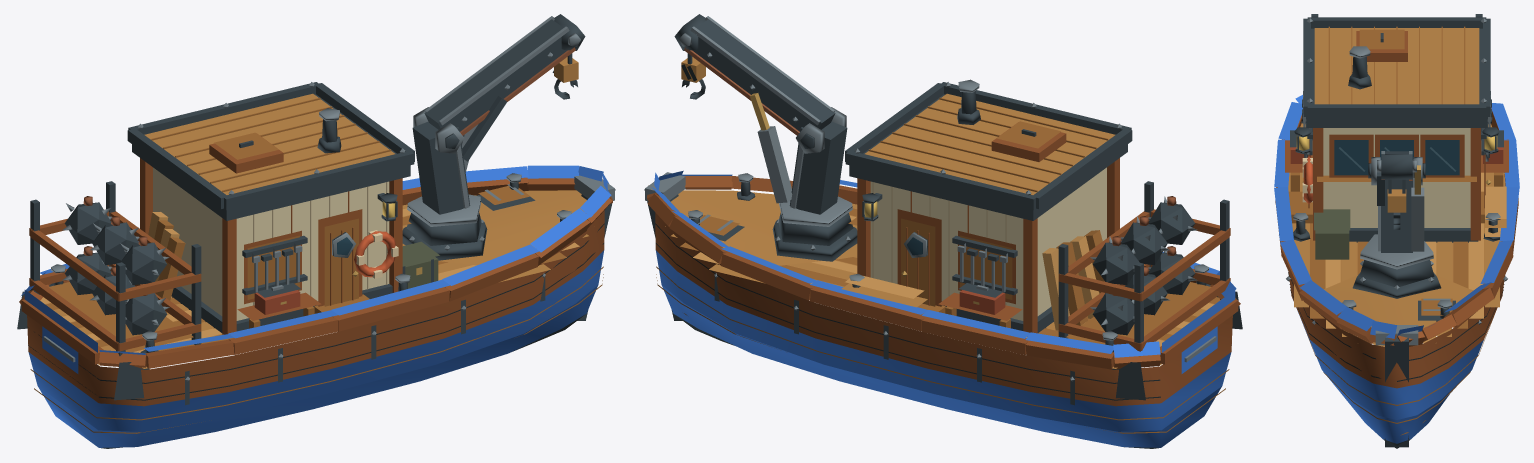
3 views of the same model, side by side, from view 1: azimuth 30°, elevation 25°; view 2: azimuth 150°, elevation 25°; view 3: azimuth 270°, elevation 25° (orthographic). The views are drawn at different scales.
Parts seen in each view (by area): view 1: hull-band-3, hull-band-2, workshop-body, roof-timber-inset, hull-band-1, main-deck, crane-boom, crane-upright, roof-slab, roof-rim-long-1, door-panel-1, roof-rim-long--1 (+55 smaller); view 2: hull-band-3, hull-band-2, workshop-body, roof-timber-inset, hull-band-1, main-deck, crane-boom, roof-slab, crane-upright, roof-rim-long--1, door-panel--1, bulwark-3 (+56 smaller); view 3: roof-timber-inset, hull-band-3, workshop-body, hull-band-2, main-deck, roof-rim-short-0.095, roof-slab, roof-rim-short--0.475, hull-band-1, crane-upright, crane-base-pedestal, front-window-0 (+56 smaller).
Part boxes in pixels (x1,y1,x2,y2): hull-band-3: (27, 210, 604, 406); hull-band-2: (28, 250, 604, 431); workshop-body: (153, 167, 389, 320); roof-timber-inset: (144, 93, 394, 194); hull-band-1: (38, 285, 598, 447); main-deck: (45, 190, 586, 365); crane-boom: (424, 19, 567, 131); crane-upright: (412, 121, 470, 214); roof-slab: (132, 94, 410, 220); roof-rim-long-1: (223, 150, 414, 210); door-panel-1: (324, 218, 358, 306); roof-rim-long--1: (128, 82, 320, 134); hull-band-3: (655, 213, 1232, 406); hull-band-2: (655, 250, 1231, 431); workshop-body: (870, 167, 1106, 320); roof-timber-inset: (865, 93, 1115, 194); hull-band-1: (661, 285, 1221, 447); main-deck: (671, 190, 1214, 365); crane-boom: (692, 19, 835, 131); roof-slab: (849, 94, 1127, 220); crane-upright: (789, 121, 847, 214); roof-rim-long--1: (845, 150, 1035, 210); door-panel--1: (901, 218, 935, 306); bulwark-3: (810, 286, 925, 331); roof-timber-inset: (1314, 28, 1479, 104); hull-band-3: (1288, 272, 1504, 388); workshop-body: (1323, 128, 1470, 227); hull-band-2: (1296, 308, 1483, 419); main-deck: (1288, 172, 1505, 345); roof-rim-short-0.095: (1307, 104, 1486, 118); roof-slab: (1306, 28, 1487, 127); roof-rim-short--0.475: (1307, 17, 1486, 28); hull-band-1: (1323, 371, 1470, 443); crane-upright: (1381, 172, 1412, 252); crane-base-pedestal: (1359, 260, 1434, 286); front-window-0: (1425, 140, 1459, 175).
Size of the model in its own units: 1.65 by 0.873 by 0.6646.
